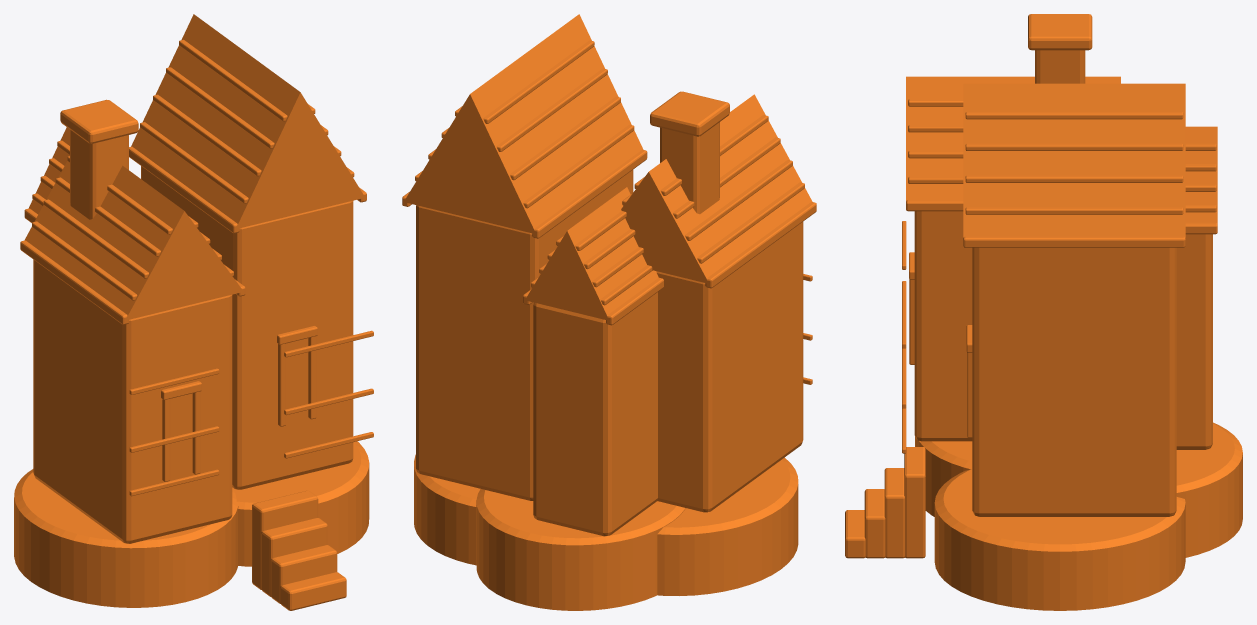
The model's file is village-orange.fbx.
3 renders of one model, left to right at view 1: azimuth 30°, elevation 25°; view 2: azimuth 150°, elevation 25°; view 3: azimuth 270°, elevation 25°, orthographic. The views are drawn at different scales.
Parts seen in each view (by area): view 1: Village_Moulded_Sculpt; view 2: Village_Moulded_Sculpt; view 3: Village_Moulded_Sculpt.
Boxes of the visible parts, x1=… form: Village_Moulded_Sculpt: x1=14, y1=14, x2=373, y2=610; Village_Moulded_Sculpt: x1=402, y1=14, x2=816, y2=610; Village_Moulded_Sculpt: x1=845, y1=14, x2=1242, y2=610.
Bounding box in the file's own units: 0.012 × 0.016 × 0.012.
